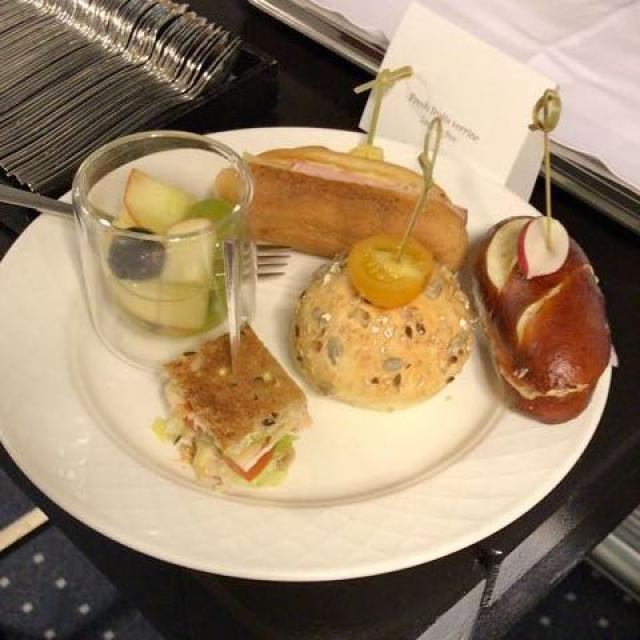fruit-salad: (97, 170, 239, 331)
sandwich: (214, 146, 457, 254)
